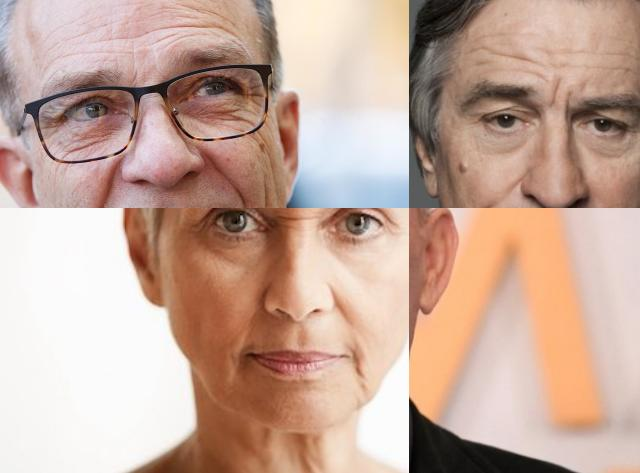crows_feet: (41, 111, 65, 139), (247, 82, 263, 116)
forehead: (48, 24, 110, 57), (197, 8, 241, 38), (143, 21, 194, 46), (484, 42, 530, 66), (597, 59, 635, 76)
frown_line: (278, 208, 319, 227), (546, 76, 566, 110), (127, 62, 141, 86)
gummy_smile: (206, 152, 248, 208), (91, 165, 120, 208), (244, 286, 272, 321), (328, 288, 354, 324)
masseter: (256, 149, 283, 208)
sad_smile: (344, 345, 364, 379)
